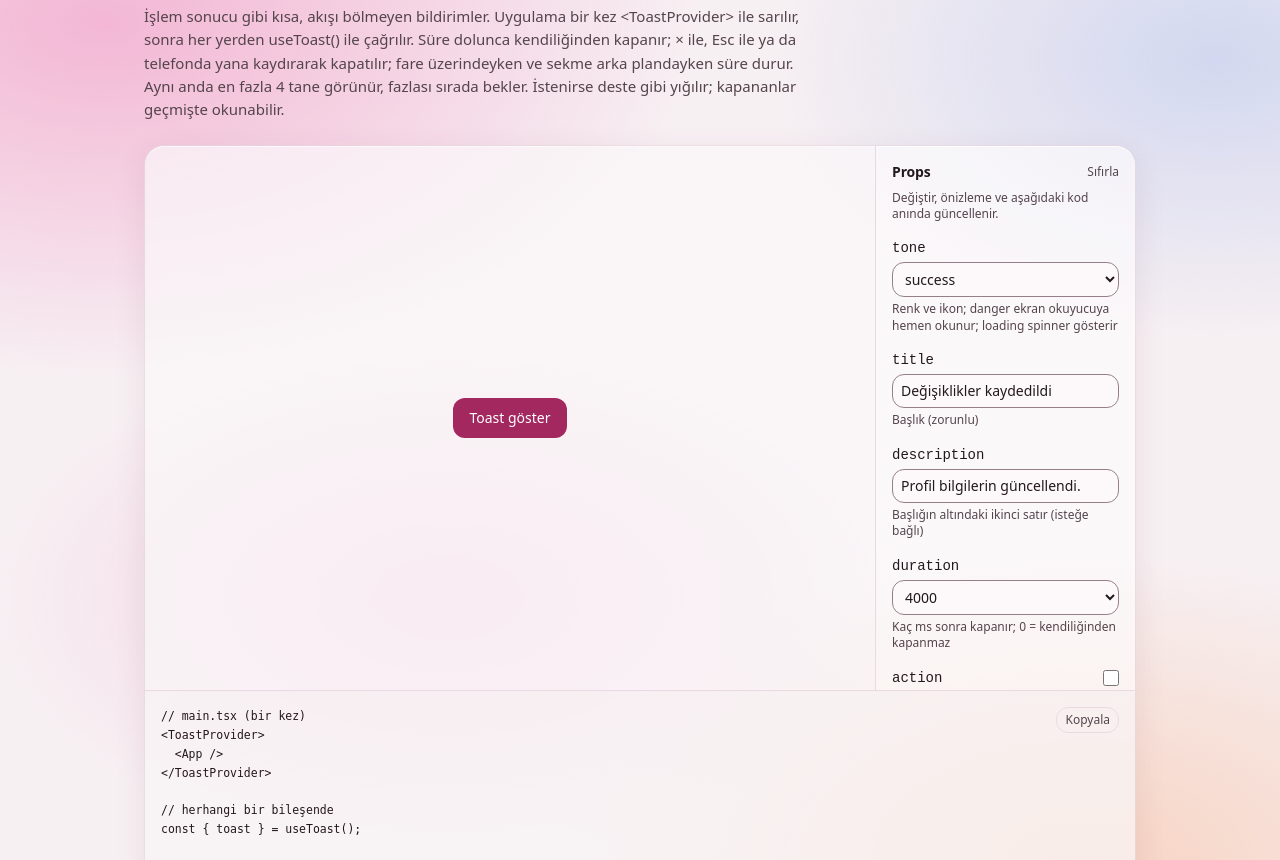
Test case: Playground sayfası › Toast önizlemesi gerçekten bildirim gösterir
(page scrolled)
Step 1. Click the button "Toast göster" → (510,418), box [454,398,566,438]
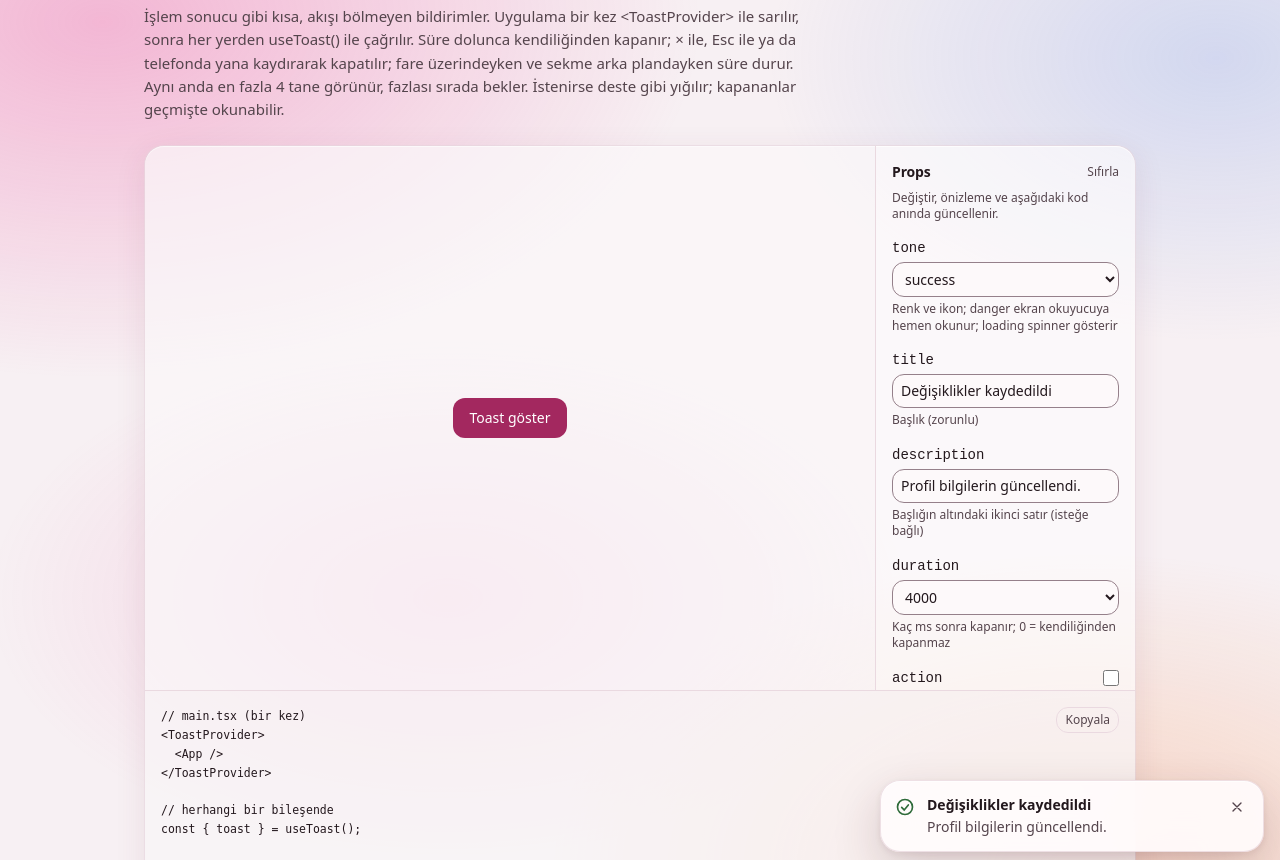
Expected: the text "Değişiklikler kaydedildi" is shown, [927,795,1091,814]
